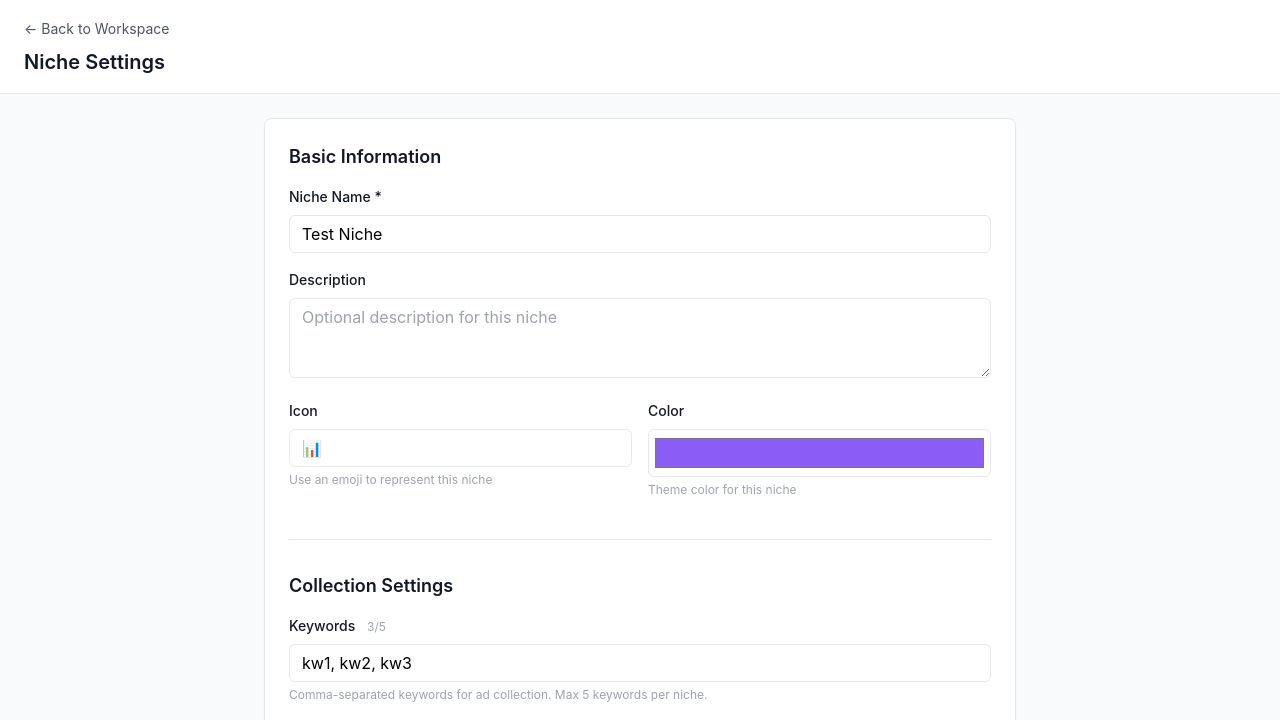
Scenario: NicheSettingsView — keyword counter › shows warning text when count > 5
This screenshot has width=1280, height=720.
Replace the text in the field with id "keywords" with "kw1, kw2, kw3, kw4, kw5, kw6" at {"x": 640, "y": 663}, box [289, 644, 991, 682]
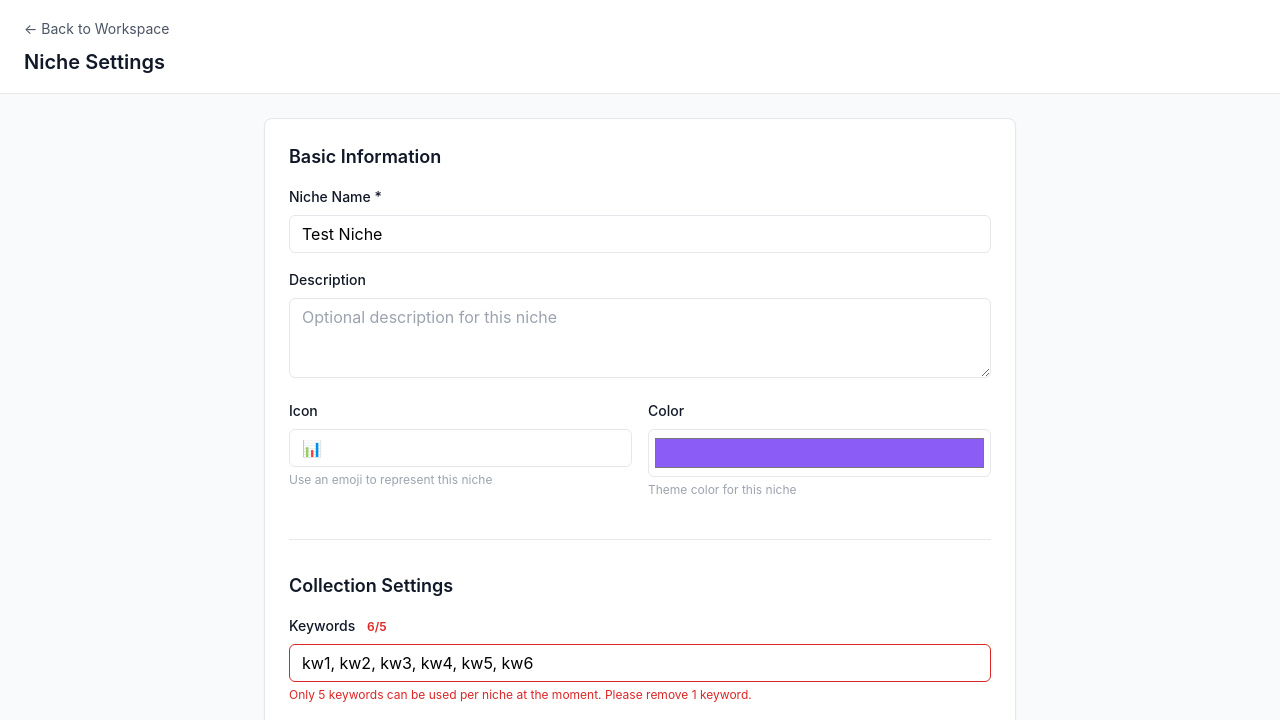
Result: the text "Only 5 keywords can be used" is shown at [289, 687, 752, 702]
